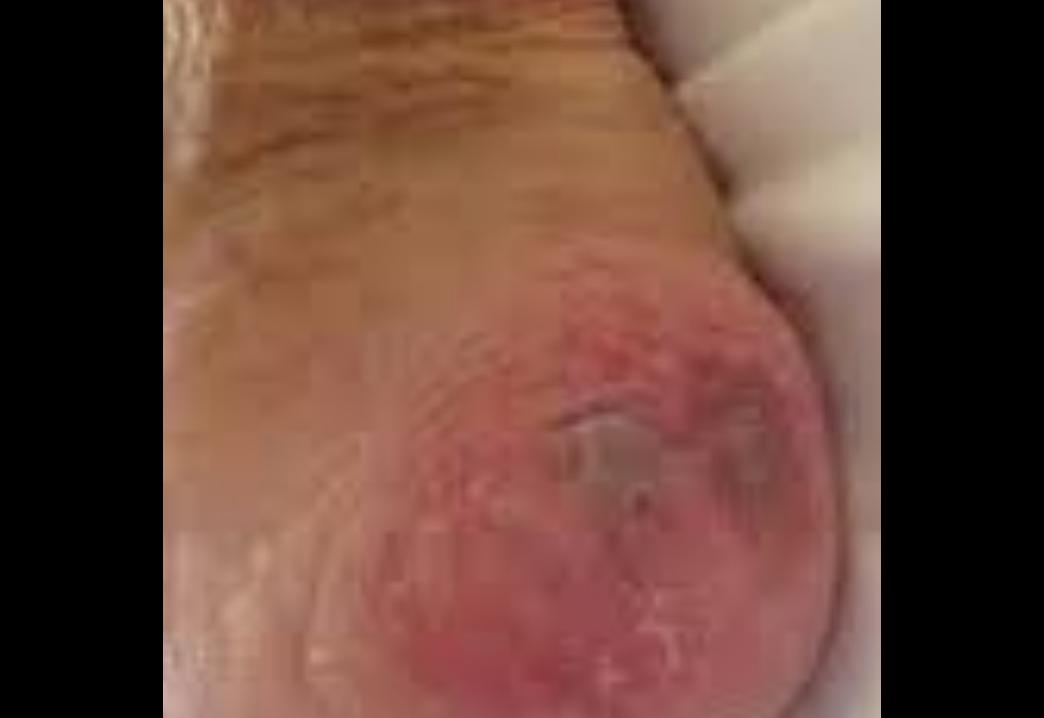Stage1: (275, 231, 828, 718)
